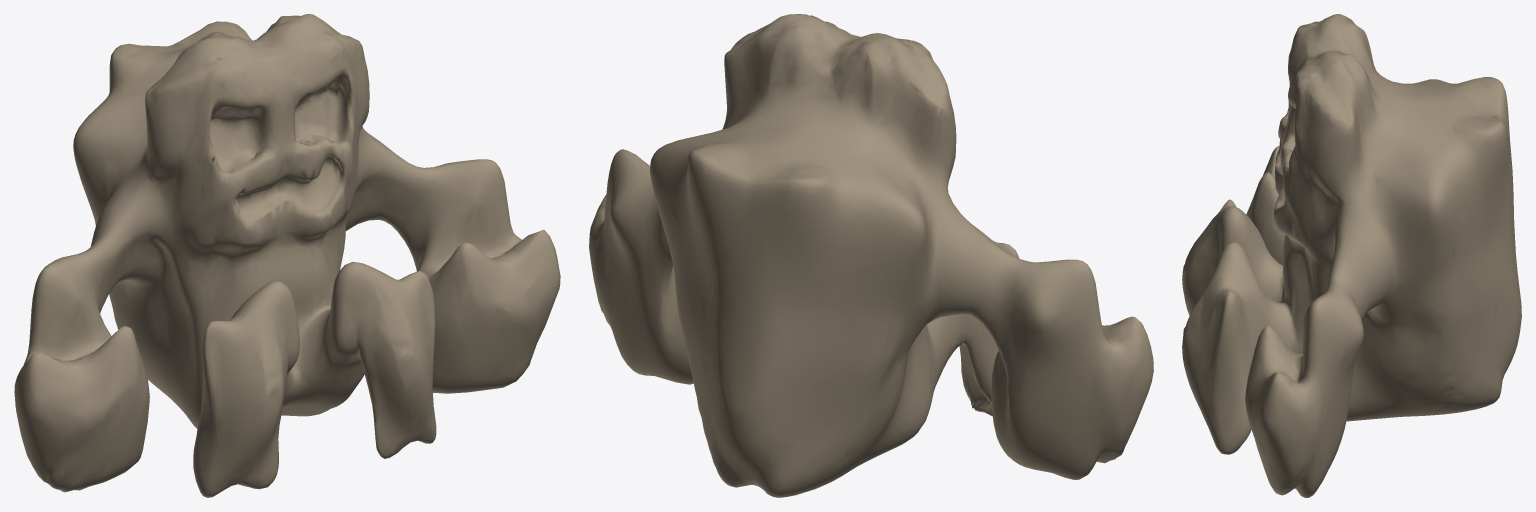
Rendered from eldroot.glb.
The picture shows the model from 3 angles, left to right: view 1: azimuth 30°, elevation 25°; view 2: azimuth 150°, elevation 25°; view 3: azimuth 270°, elevation 25°; orthographic projection. The views are drawn at different scales.
Visible parts, largest first — view 1: eldroot; view 2: eldroot; view 3: eldroot.
Part boxes in pixels (left/top/right/bottom): eldroot: left=14, top=14, right=560, bottom=497; eldroot: left=589, top=14, right=1153, bottom=497; eldroot: left=1182, top=14, right=1521, bottom=497.
Size of the model in its own units: 3.8 by 2.71 by 2.27.
